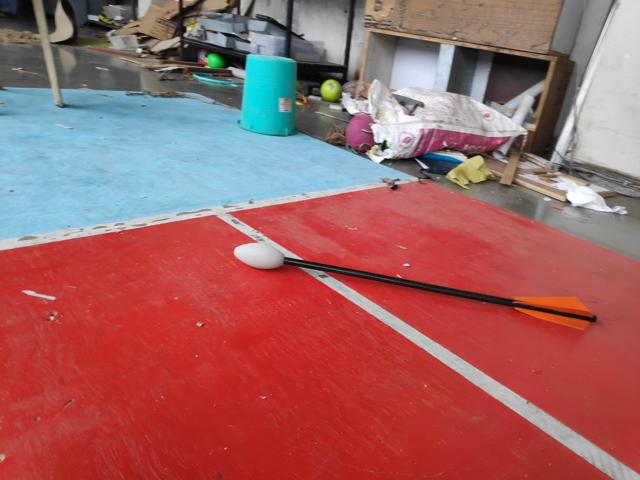Head: (230, 239, 286, 270)
Tail: (509, 292, 599, 334)
